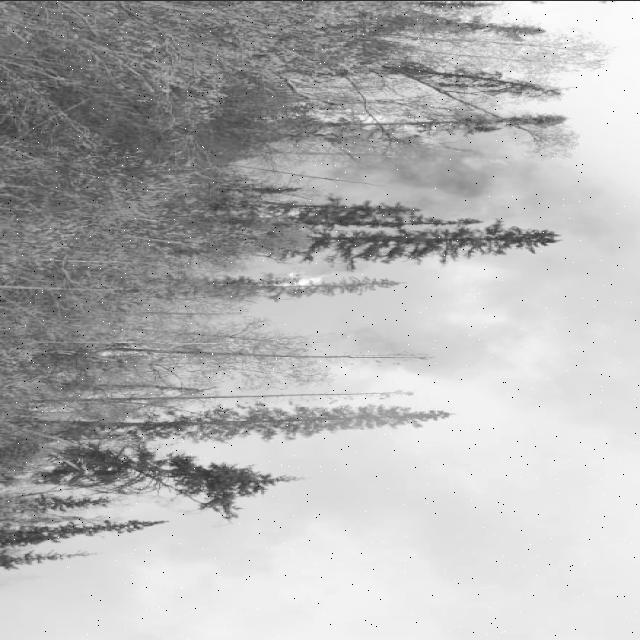api: (277, 95, 495, 151), (93, 327, 355, 363), (77, 381, 214, 409), (267, 257, 345, 293), (22, 400, 106, 425)
asap: (265, 117, 640, 249), (283, 267, 640, 385)
